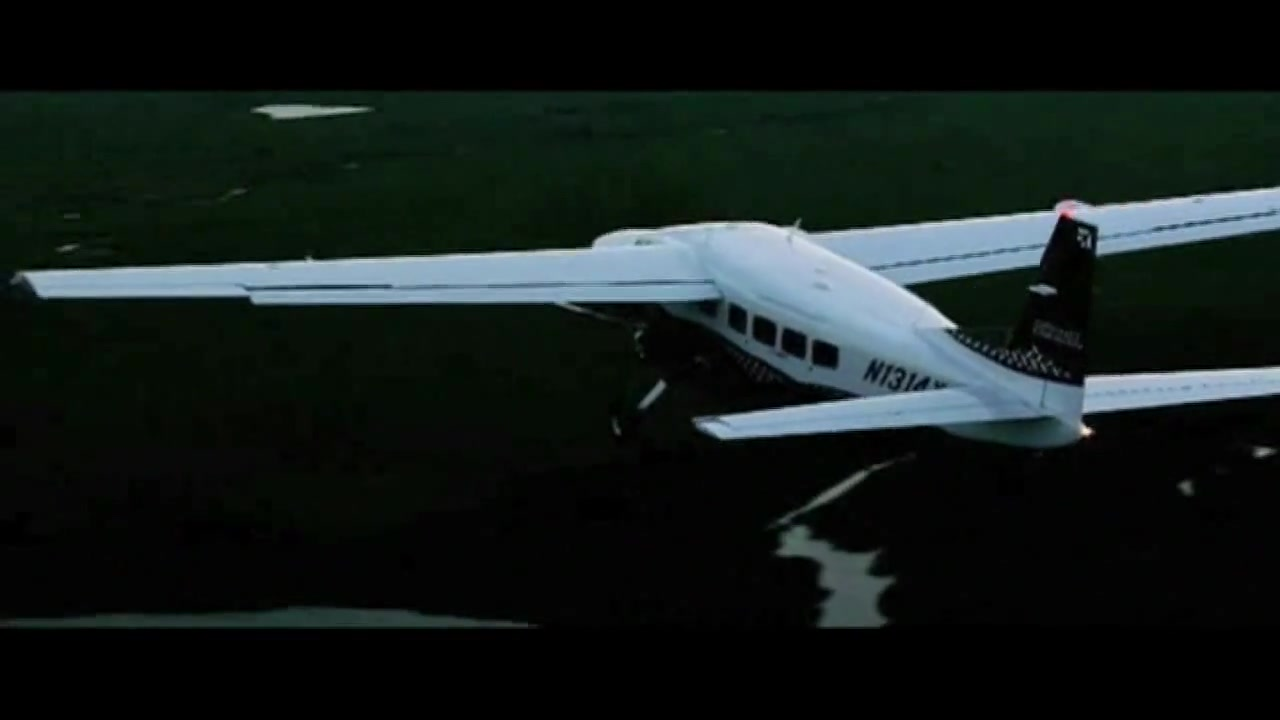aeroplane: (15, 187, 1280, 451)
